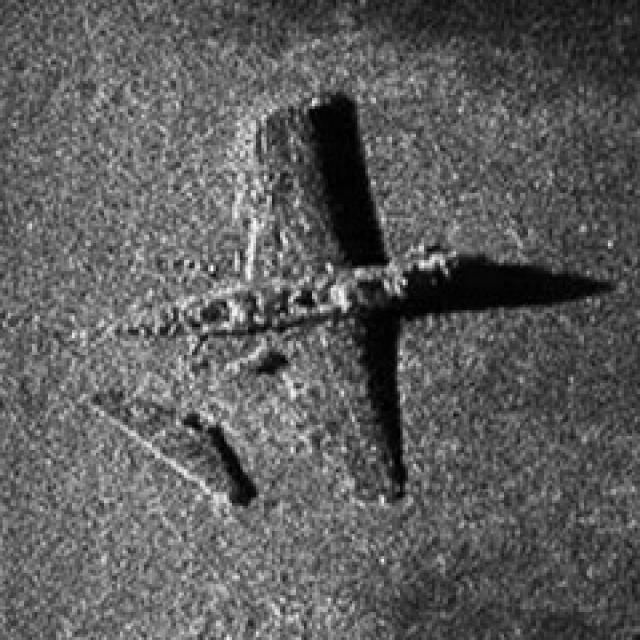plane: (77, 86, 515, 522)
